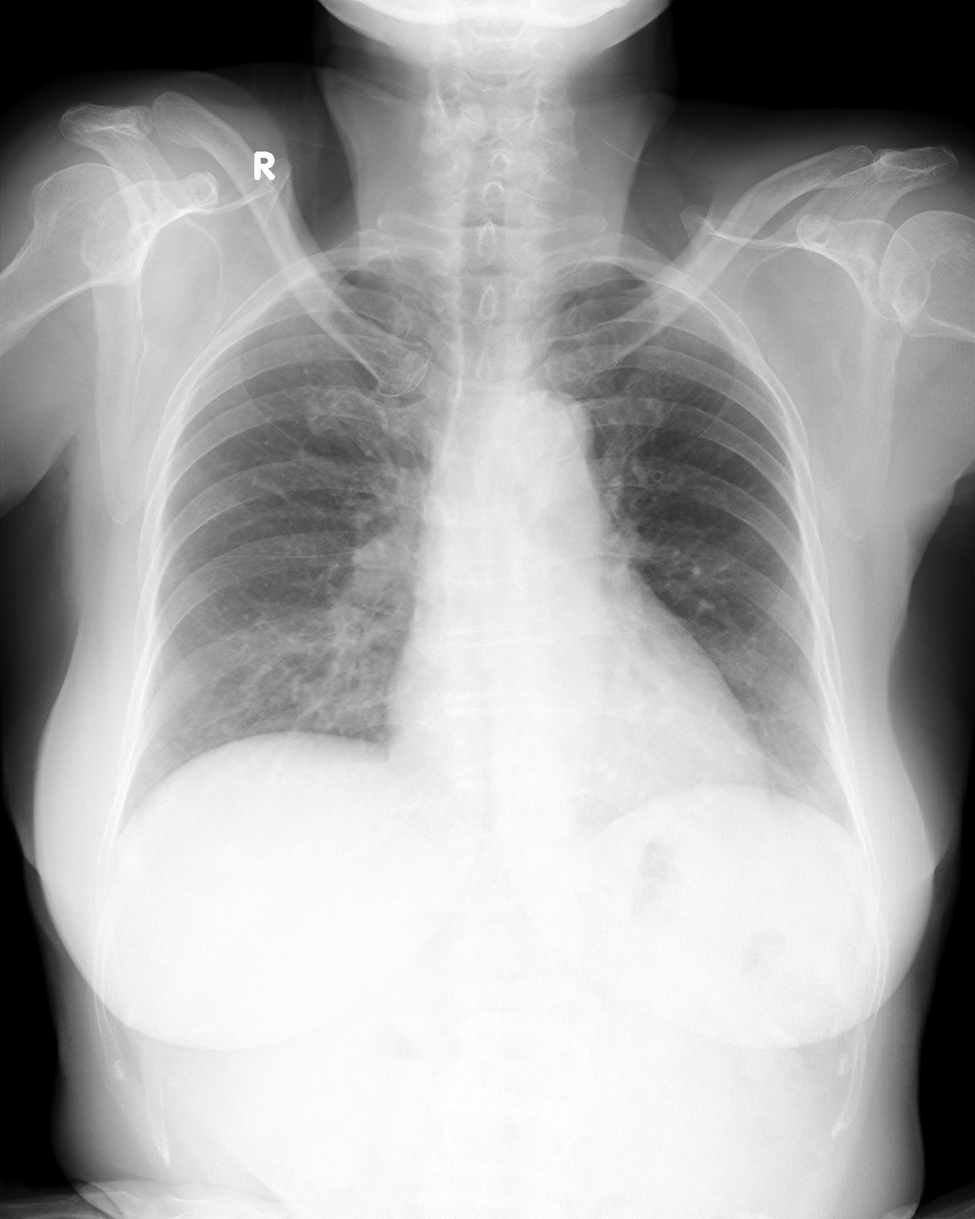Aortic enlargement: (500, 395, 600, 514)
